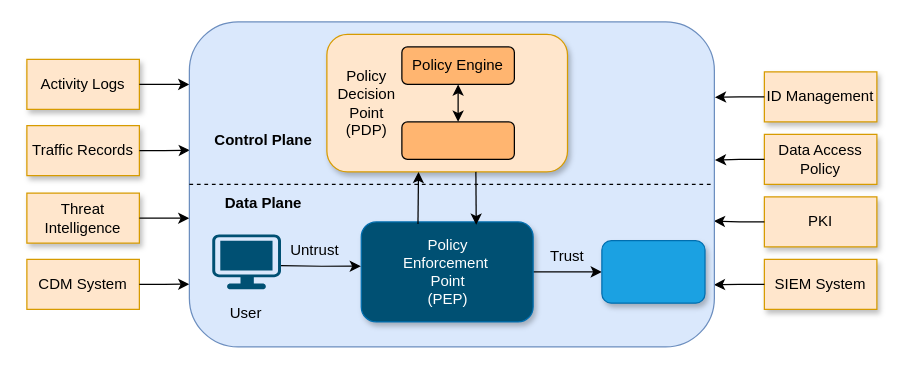
The diagram is 906 pixels wide and 369 high, and some of its shapes have lost their labels. The centre of each missing label's shape, as x and y in pixels:
Enterprise Resource: point (654, 273)
Policy Administrator: point (457, 140)
